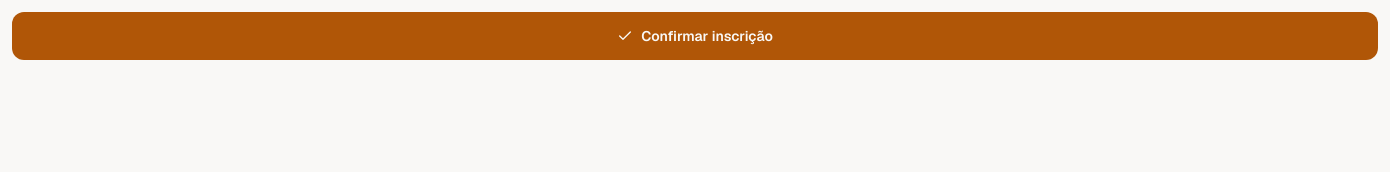
Scenario: NewsletterTokenActionForm › waits for explicit confirmation before activating a subscription
Click the button "Confirmar inscrição" at coordinates (695, 36), box [12,12,1378,60]
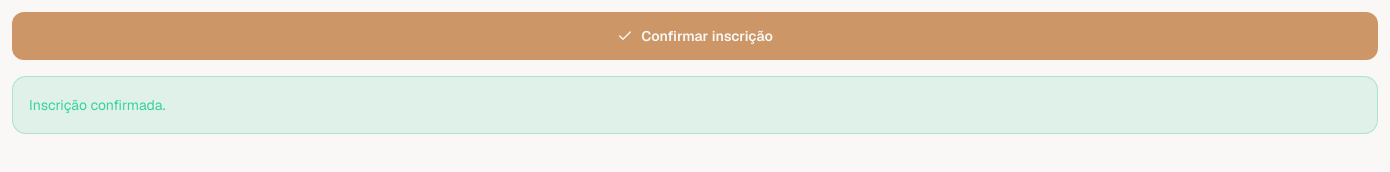
Now the text "Inscrição confirmada." is shown, box [12,76,1378,134]
